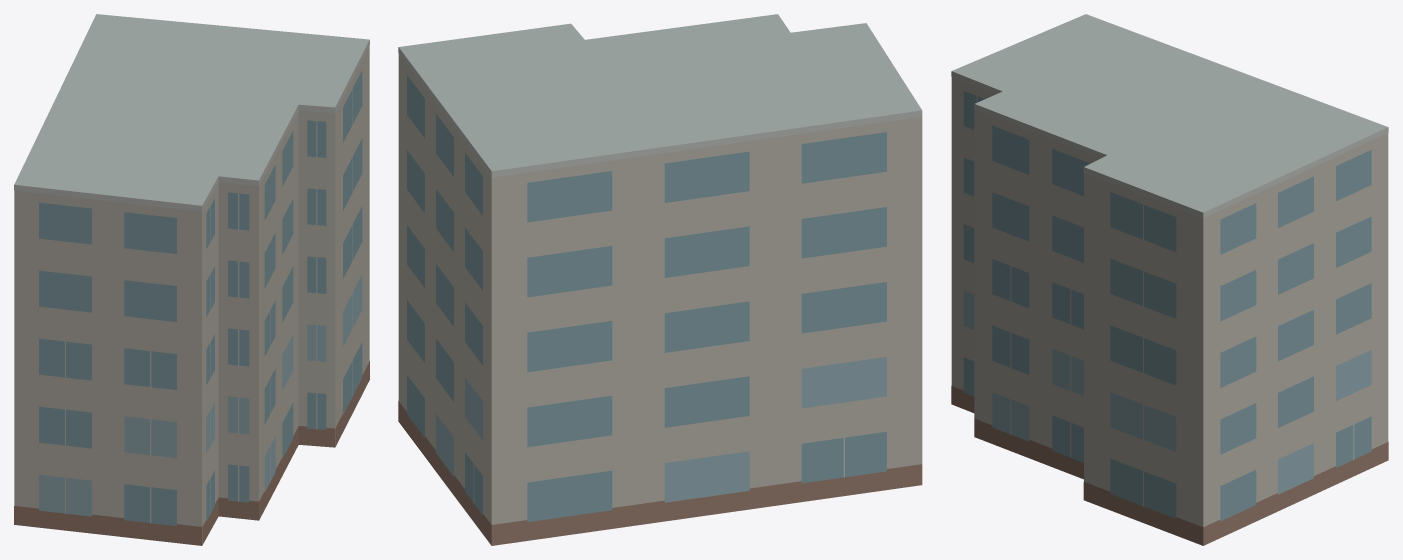
Rendered from survey-upis-32881843.glb.
3 views of the same model, side by side, from view 1: azimuth 30°, elevation 25°; view 2: azimuth 150°, elevation 25°; view 3: azimuth 270°, elevation 25° (orthographic). The views are drawn at different scales.
Parts seen in each view (by area): view 1: survey-upis-32881843.tmp; view 2: survey-upis-32881843.tmp; view 3: survey-upis-32881843.tmp.
Boxes of the visible parts, box(x1,y1,x2,y2) form: survey-upis-32881843.tmp: box(14, 14, 369, 545); survey-upis-32881843.tmp: box(398, 14, 922, 545); survey-upis-32881843.tmp: box(951, 14, 1388, 545).
Bounding box in the file's own units: 18.55 × 14.5 × 17.24.
